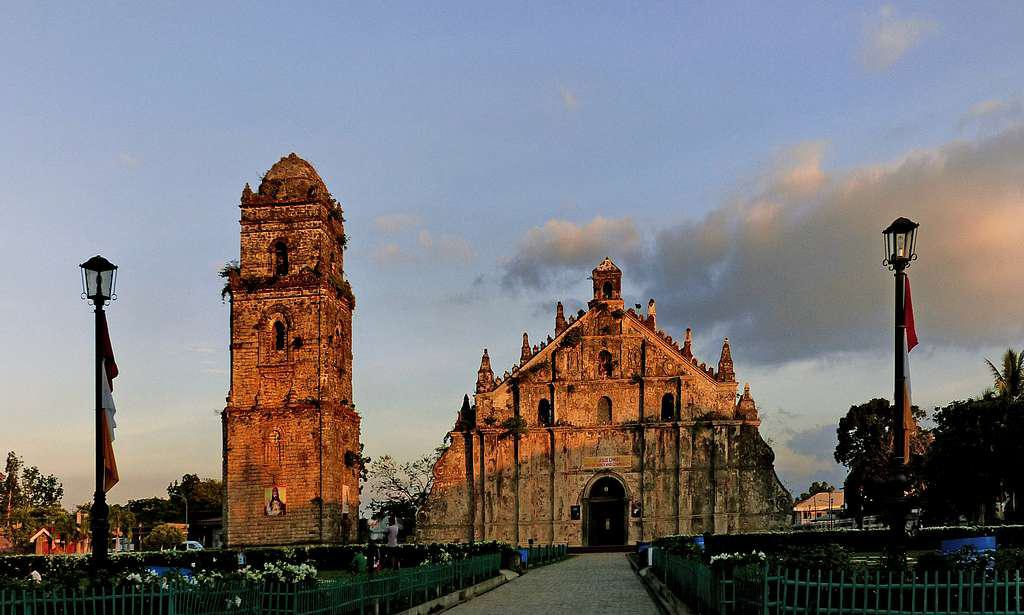paoay_church_paoay_ilocos_norte: (210, 145, 804, 547)
vegetation_damage: (321, 269, 363, 311), (215, 259, 245, 304), (498, 411, 534, 442)
